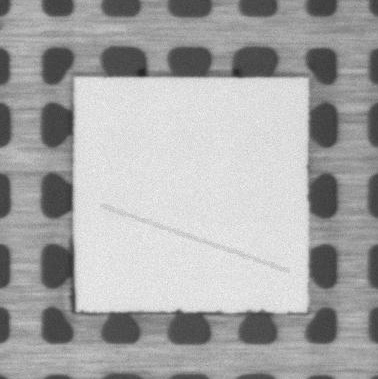DIE_CRACK: (102, 207, 288, 272)
